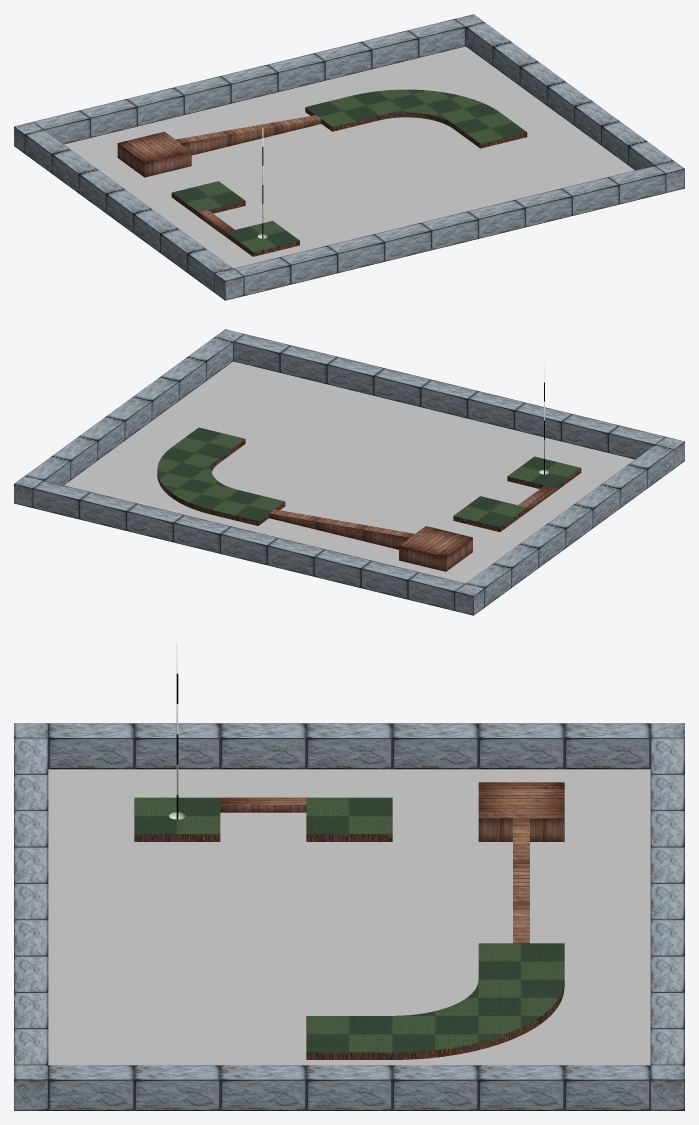
3 views of the same model, one above another, from view 1: azimuth 30°, elevation 25°; view 2: azimuth 150°, elevation 25°; view 3: azimuth 270°, elevation 25° (orthographic). The views are drawn at different scales.
Parts seen in each view (by area): view 1: pool, barrier1, barrier2, grassland, platform, square; view 2: pool, barrier1, barrier2, grassland, platform, square; view 3: pool, barrier2, grassland, barrier1, platform, square, organ.
Part boxes in pixels (x1=…): pool: x1=64, y1=46, x2=634, y2=268; barrier1: x1=33, y1=19, x2=666, y2=295; barrier2: x1=25, y1=22, x2=673, y2=292; grassland: x1=171, y1=89, x2=527, y2=256; platform: x1=117, y1=115, x2=321, y2=177; square: x1=14, y1=14, x2=684, y2=300; pool: x1=64, y1=361, x2=634, y2=583; barrier1: x1=32, y1=334, x2=665, y2=610; barrier2: x1=25, y1=337, x2=673, y2=607; grassland: x1=157, y1=427, x2=581, y2=531; platform: x1=269, y1=509, x2=472, y2=571; square: x1=14, y1=329, x2=684, y2=615; pool: x1=48, y1=769, x2=650, y2=1065; barrier2: x1=48, y1=723, x2=650, y2=1110; grassland: x1=134, y1=797, x2=564, y2=1059; barrier1: x1=14, y1=738, x2=684, y2=1065; platform: x1=478, y1=782, x2=564, y2=943; square: x1=14, y1=723, x2=684, y2=1110; organ: x1=220, y1=797, x2=306, y2=812.
Bounding box in the file's own units: 98 × 23 × 78.
